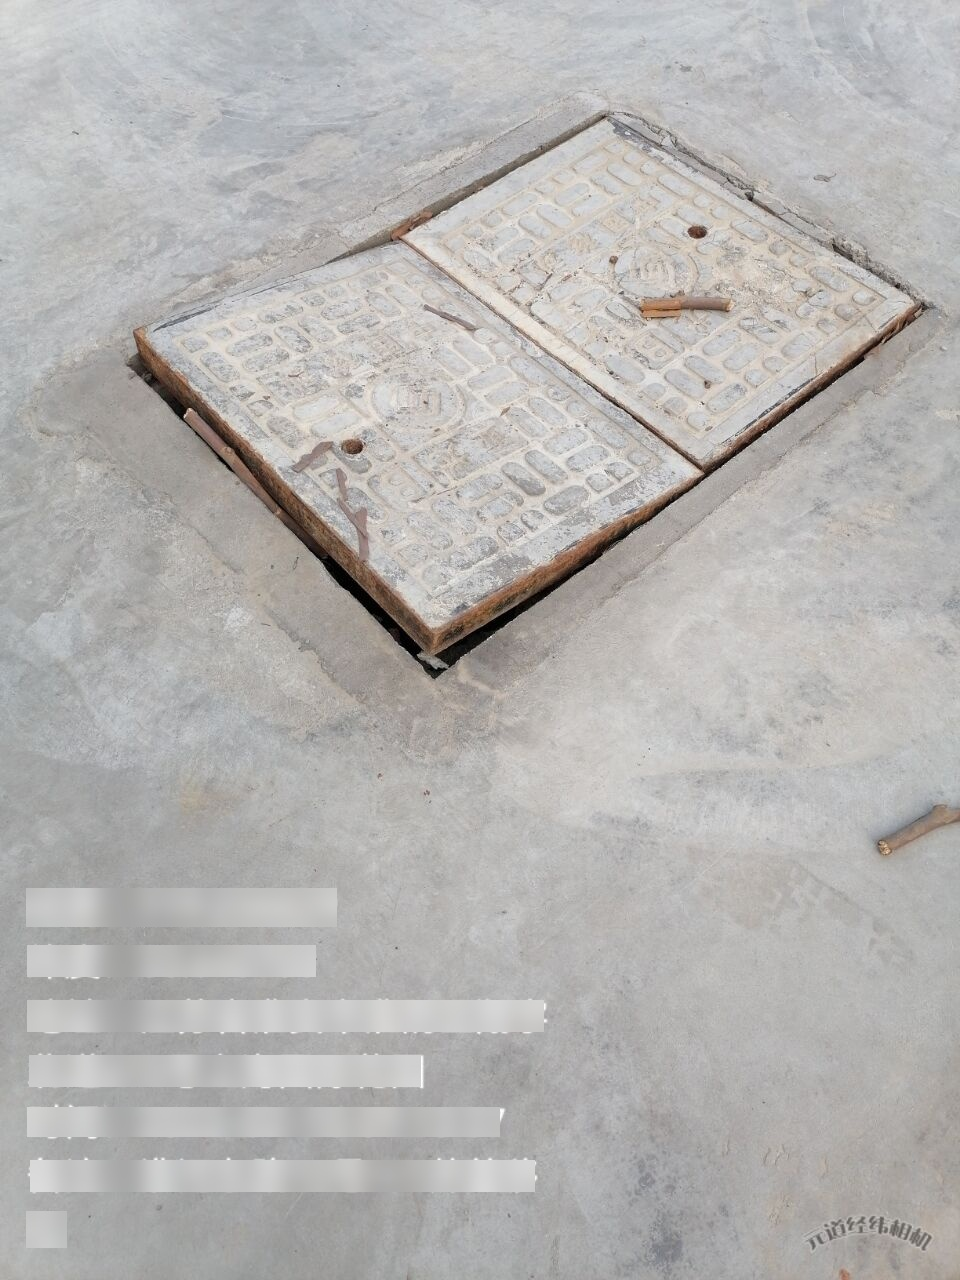uncovered: (115, 103, 939, 710)
